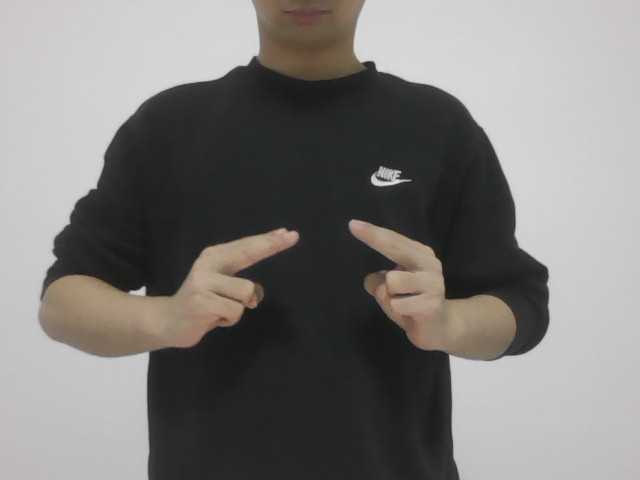know: (157, 215, 450, 369)
